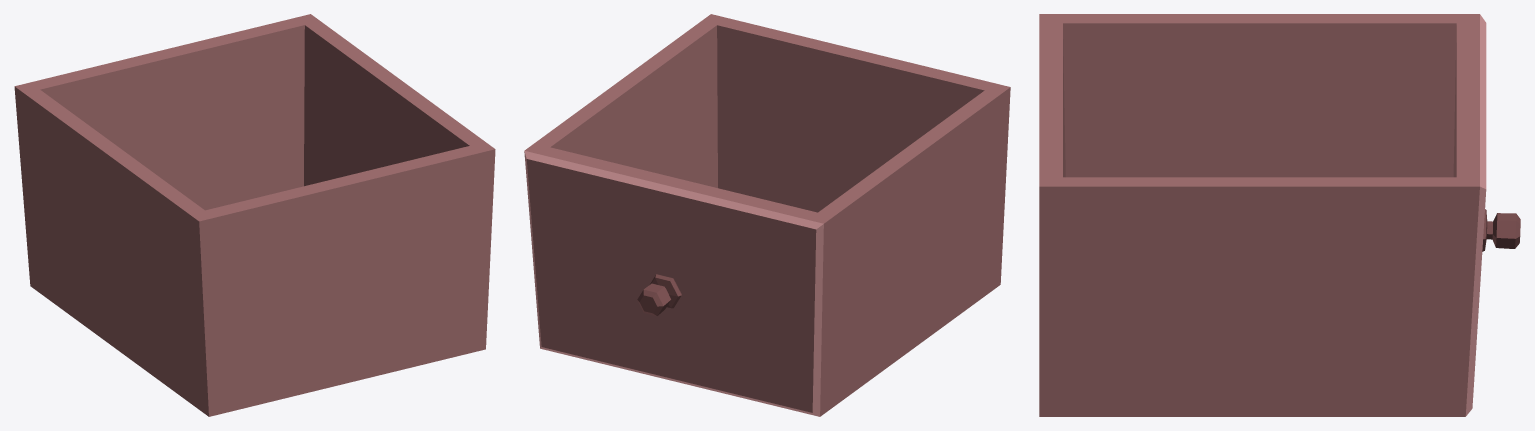
File: BottomDrawer.fbx
3 views of the same model, side by side, from view 1: azimuth 30°, elevation 25°; view 2: azimuth 150°, elevation 25°; view 3: azimuth 270°, elevation 25° (orthographic). The views are drawn at different scales.
Visible parts, largest first — view 1: BottomDrawer; view 2: BottomDrawer; view 3: BottomDrawer.
Part boxes in pixels (x1,y1,x2,y2): BottomDrawer: [14, 14, 495, 416]; BottomDrawer: [524, 14, 1010, 416]; BottomDrawer: [1039, 14, 1520, 416].
Bounding box in the file's own units: 12.38 × 7.9 × 14.6.
1 material, 1 textured.
